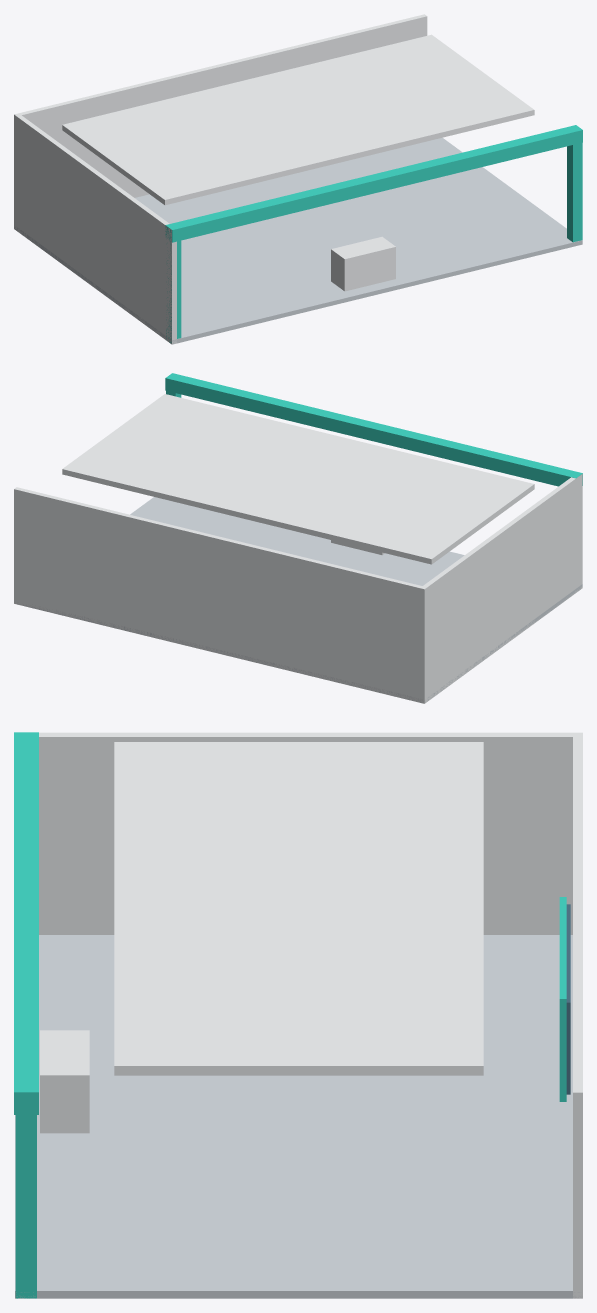
3 views of the same model, one above another, from view 1: azimuth 30°, elevation 25°; view 2: azimuth 150°, elevation 25°; view 3: azimuth 270°, elevation 25° (orthographic). The views are drawn at different scales.
Parts seen in each view (by area): view 1: Exhibition Booth Concept; view 2: Exhibition Booth Concept; view 3: Exhibition Booth Concept.
Boxes of the visible parts, left/top/right/bottom form: Exhibition Booth Concept: left=14, top=14, right=582, bottom=344; Exhibition Booth Concept: left=14, top=373, right=582, bottom=703; Exhibition Booth Concept: left=14, top=732, right=582, bottom=1298.
Size of the model in its own units: 12 by 3.34 by 8.01.
